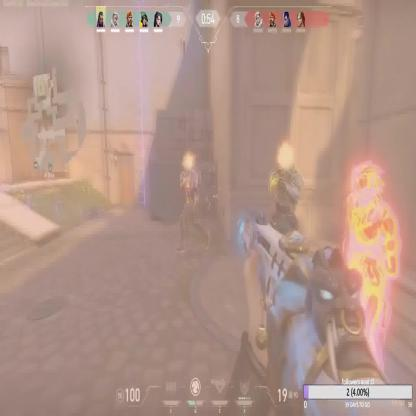enemy: (344, 157, 402, 383), (269, 137, 304, 307), (176, 150, 210, 253)
enemy_head: (351, 161, 384, 200), (277, 140, 294, 170), (182, 153, 195, 170)
